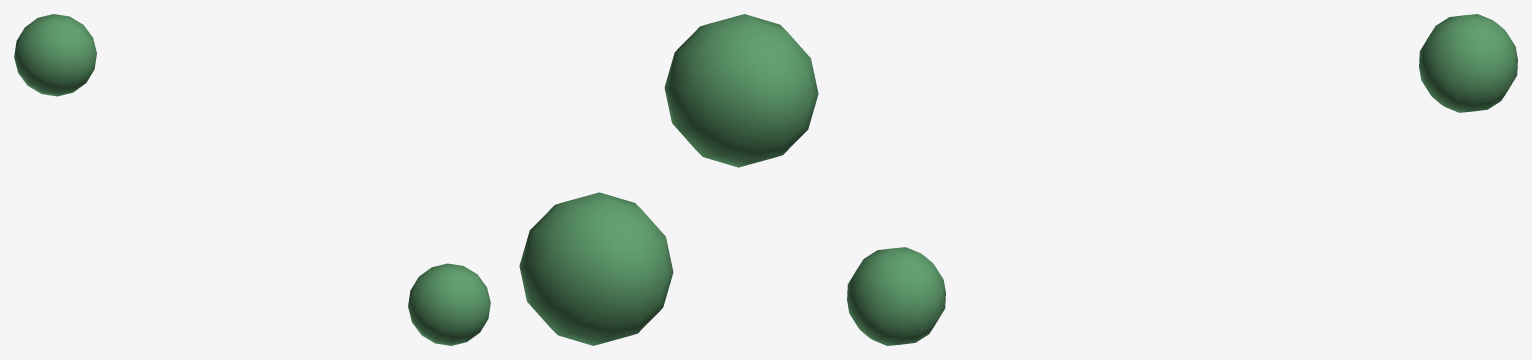
3 renders of one model, left to right at view 1: azimuth 30°, elevation 25°; view 2: azimuth 150°, elevation 25°; view 3: azimuth 270°, elevation 25°, orthographic. The views are drawn at different scales.
Parts seen in each view (by area): view 1: 回结肠淋巴结; view 2: 回结肠淋巴结; view 3: 回结肠淋巴结.
Part boxes in pixels (left/top/right/bottom): 回结肠淋巴结: left=14, top=14, right=490, bottom=345; 回结肠淋巴结: left=519, top=14, right=818, bottom=345; 回结肠淋巴结: left=847, top=14, right=1517, bottom=345.
Size of the model in its own units: 0.0122 by 0.00964 by 0.0255.
